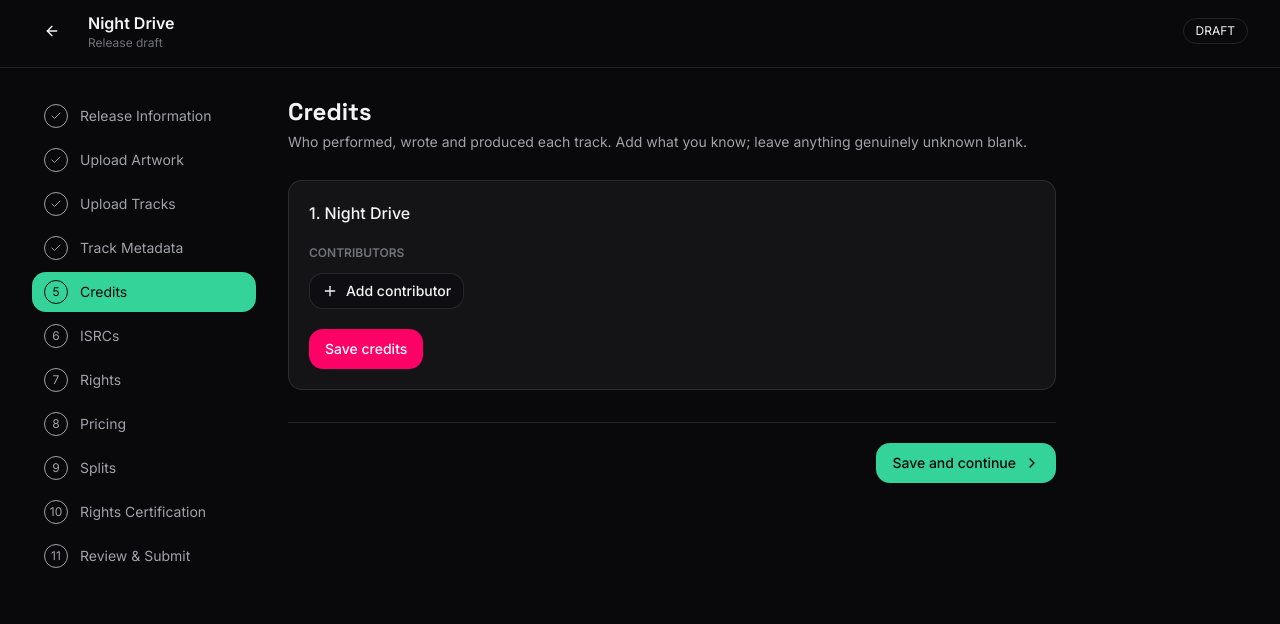
release wizard: Save and continue saves what is on screen › stays on the step and explains why when the unsaved edit cannot be saved
Click the button "Add contributor" at [387, 291], box [309,273,464,309]
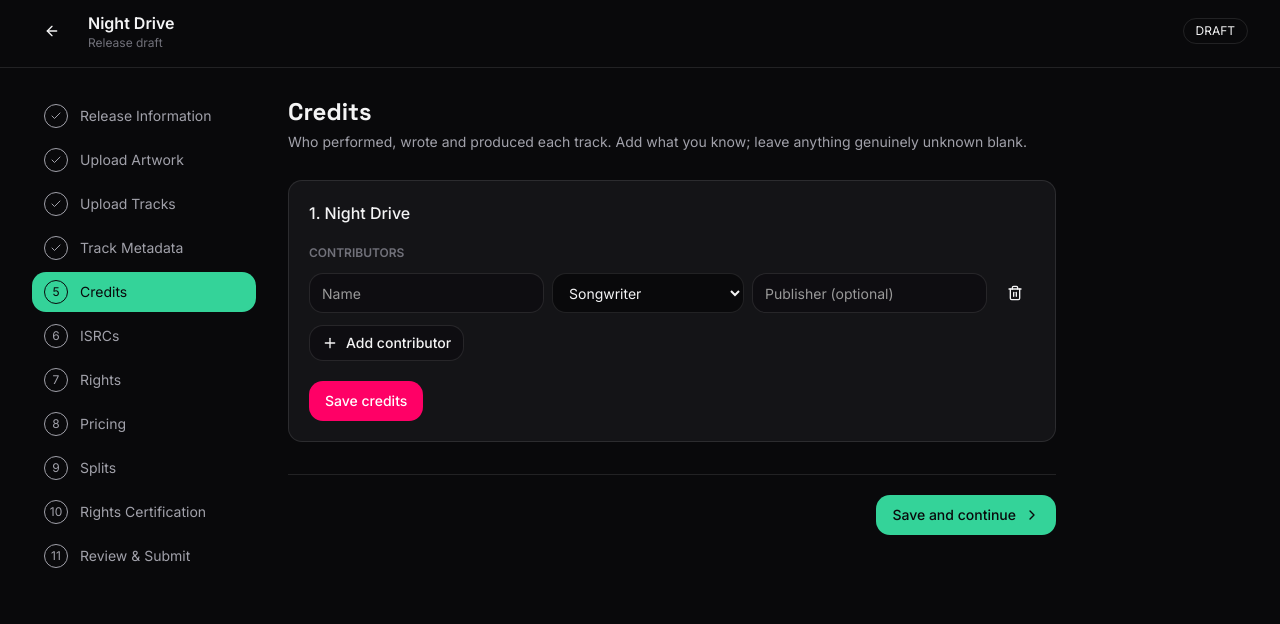
Type "James Clay Jones" into the field named "Contributor name" at [426, 293], box [309,273,544,313]
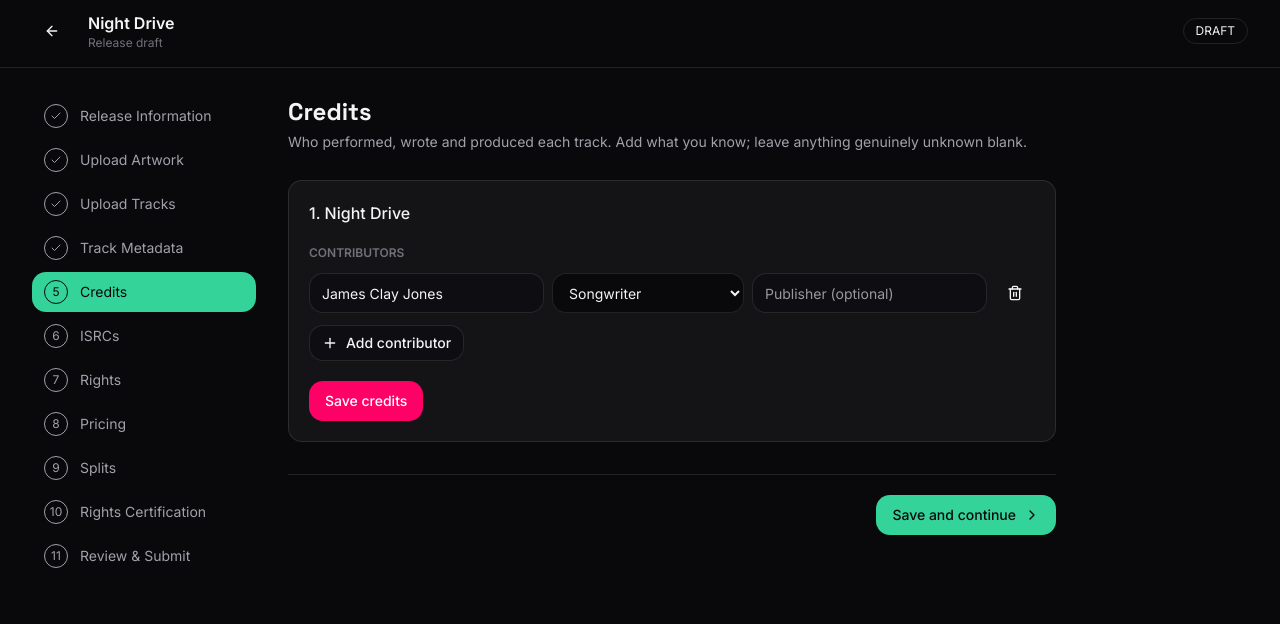
Click the button "Save and continue" at [966, 515], box [876,495,1056,535]
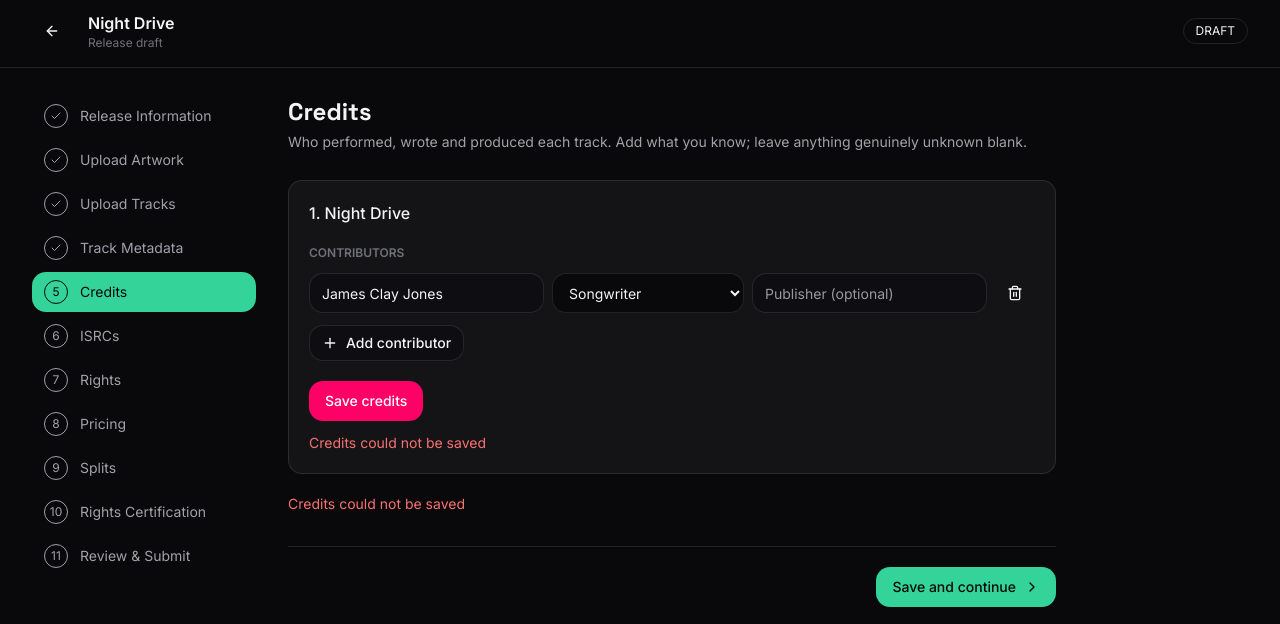
Now the text "Credits could not be saved" below "Contributors" is shown, box [309,434,486,451]
